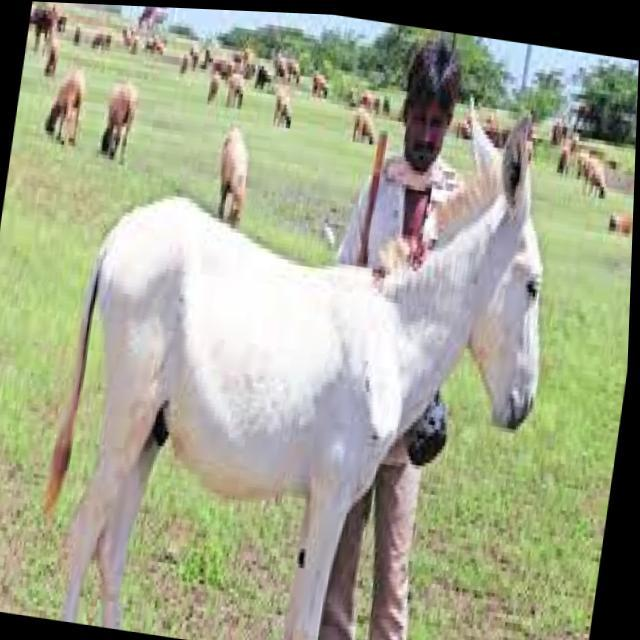Donkey: (36, 36, 575, 640), (404, 72, 592, 464)
